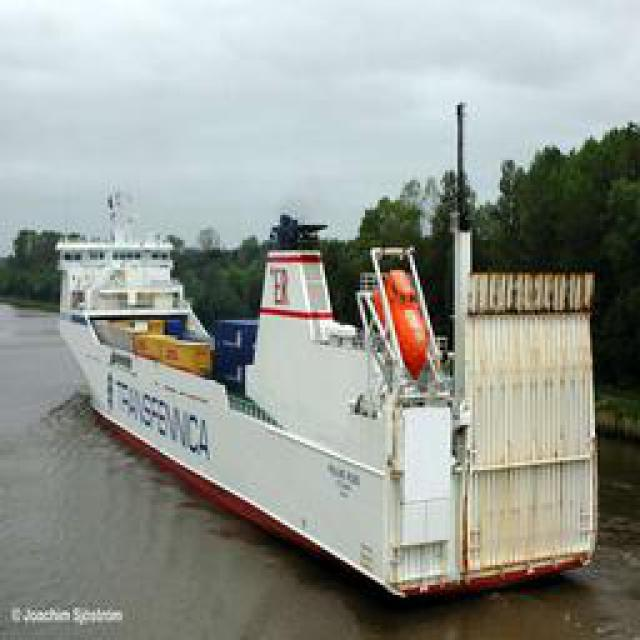Ship: (60, 182, 600, 610)
